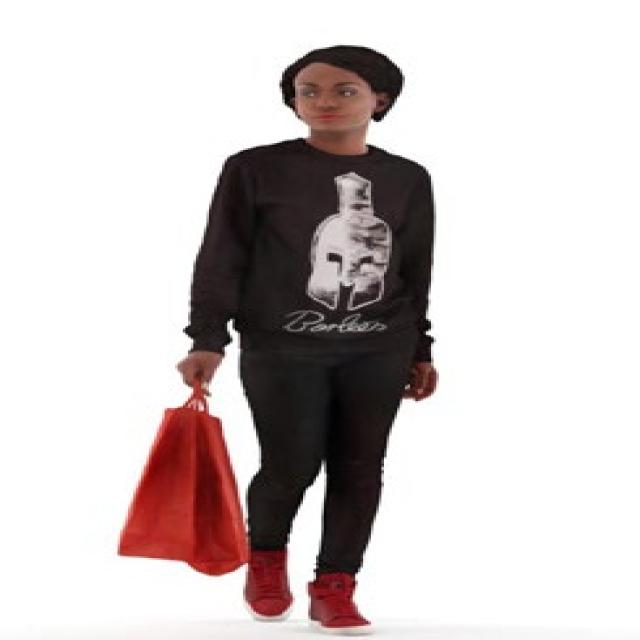standing: (171, 42, 446, 640)
